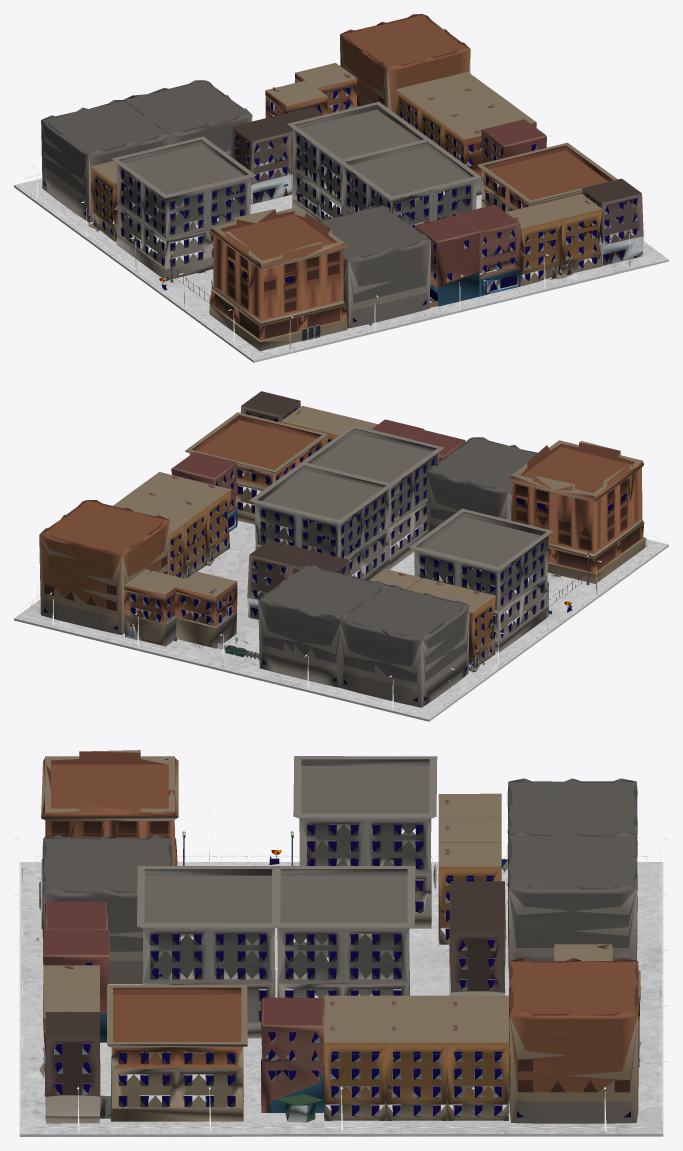
Rendered from BlockJoinDecimated.fbx.
3 renders of one model, top to bottom at view 1: azimuth 30°, elevation 25°; view 2: azimuth 150°, elevation 25°; view 3: azimuth 270°, elevation 25°, orthographic. The views are drawn at different scales.
Parts seen in each view (by area): view 1: sidewalk; view 2: sidewalk; view 3: sidewalk.
Part boxes in pixels (x1,y1,x2,y2): sidewalk: (14,14,668,362); sidewalk: (14,391,668,721); sidewalk: (14,750,668,1136).
Bounding box in the file's own units: 11189 × 2623 × 11189.
